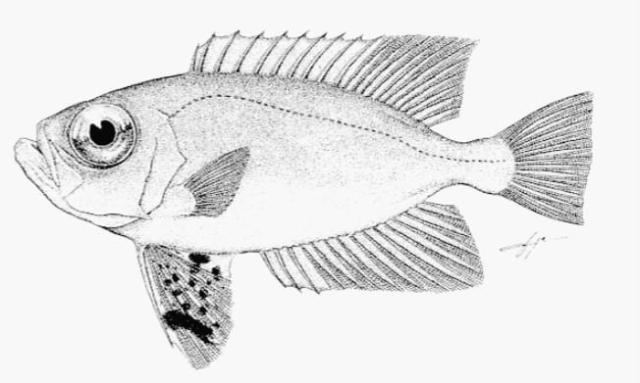Mulut: (5, 104, 60, 188)
Sirip Anal: (264, 197, 488, 297)
Sirip Dada: (178, 142, 254, 222)
Sirip Ekor: (492, 81, 600, 233)
Sirip Perut: (134, 239, 238, 372)
Sirip Punggung: (188, 27, 477, 133)
